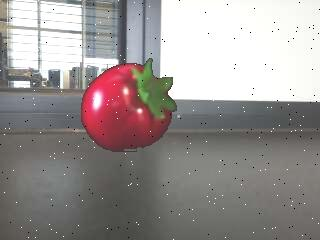Tomato: (82, 58, 178, 152)
